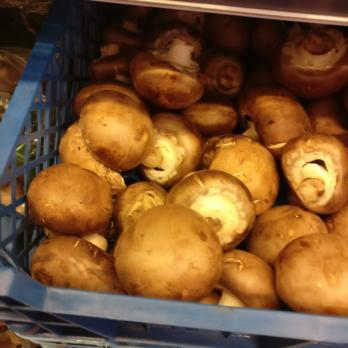Mushroom: (155, 23, 348, 298), (62, 32, 165, 291)
